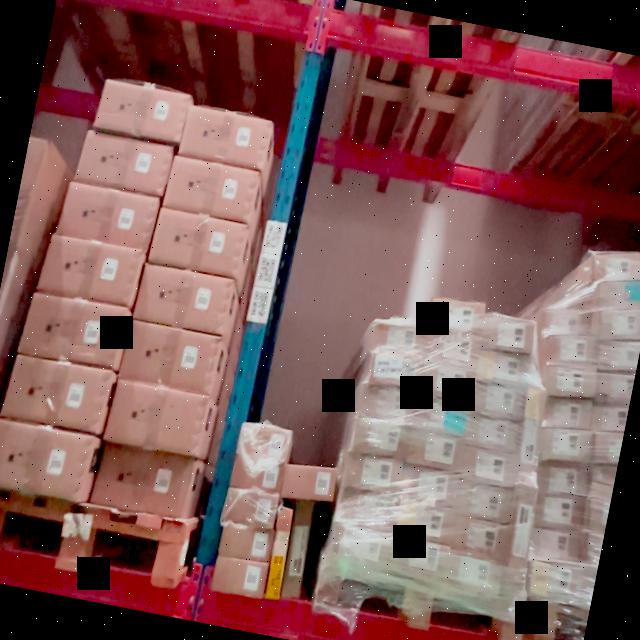box: (105, 380, 208, 458), (5, 356, 106, 432), (23, 294, 124, 369), (122, 322, 219, 394), (42, 236, 138, 306), (0, 422, 91, 493), (94, 448, 192, 512), (78, 129, 170, 195), (59, 184, 154, 246), (166, 158, 256, 222), (136, 268, 228, 330), (153, 210, 241, 274), (97, 80, 188, 140), (183, 106, 269, 167), (444, 519, 512, 565), (264, 509, 296, 601), (453, 480, 516, 523), (398, 469, 456, 514), (344, 456, 400, 499), (349, 418, 404, 461), (411, 398, 466, 440), (328, 526, 385, 566), (214, 556, 267, 598), (391, 503, 446, 543), (238, 424, 294, 463), (230, 458, 284, 498), (421, 361, 473, 402), (281, 465, 334, 505), (222, 492, 277, 530), (458, 447, 516, 483), (406, 434, 458, 474), (358, 387, 411, 426), (442, 558, 502, 592), (373, 313, 426, 351), (477, 346, 530, 383), (464, 414, 520, 449), (470, 382, 524, 418), (368, 354, 419, 392), (337, 497, 388, 535), (219, 528, 273, 563), (390, 542, 440, 578), (482, 314, 532, 349), (432, 298, 485, 331), (426, 331, 477, 364)
